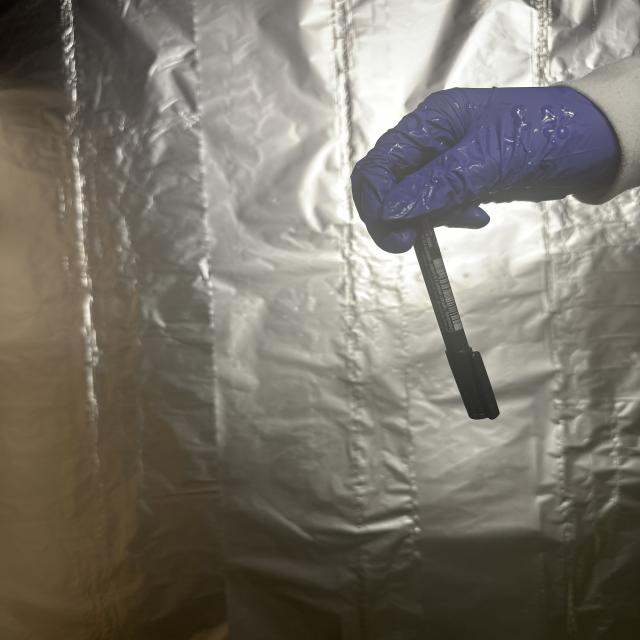gloves_contaminated: (352, 87, 620, 253)
